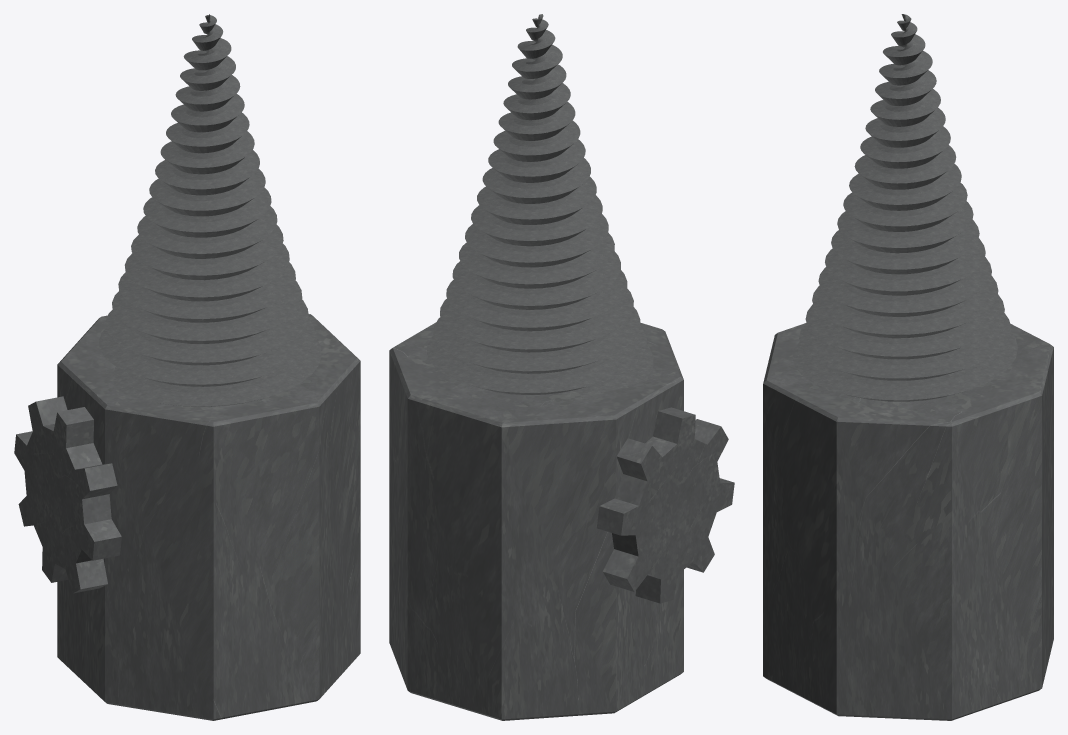
File: Drill.glb
The picture shows the model from 3 angles, left to right: view 1: azimuth 30°, elevation 25°; view 2: azimuth 150°, elevation 25°; view 3: azimuth 270°, elevation 25°; orthographic projection.
Visible parts, largest first — view 1: DrillStand, Drill, Gear; view 2: DrillStand, Drill, Gear; view 3: DrillStand, Drill.
Part boxes in pixels (left/top/right/bottom): DrillStand: left=57, top=313, right=360, bottom=720; Drill: left=99, top=14, right=321, bottom=406; Gear: left=14, top=396, right=121, bottom=593; DrillStand: left=389, top=322, right=683, bottom=720; Drill: left=427, top=14, right=653, bottom=394; Gear: left=596, top=407, right=734, bottom=603; DrillStand: left=763, top=323, right=1053, bottom=720; Drill: left=792, top=14, right=1017, bottom=401.
Bounding box in the file's own units: 1.08 × 2.37 × 0.9657.
1 material, 1 textured.
